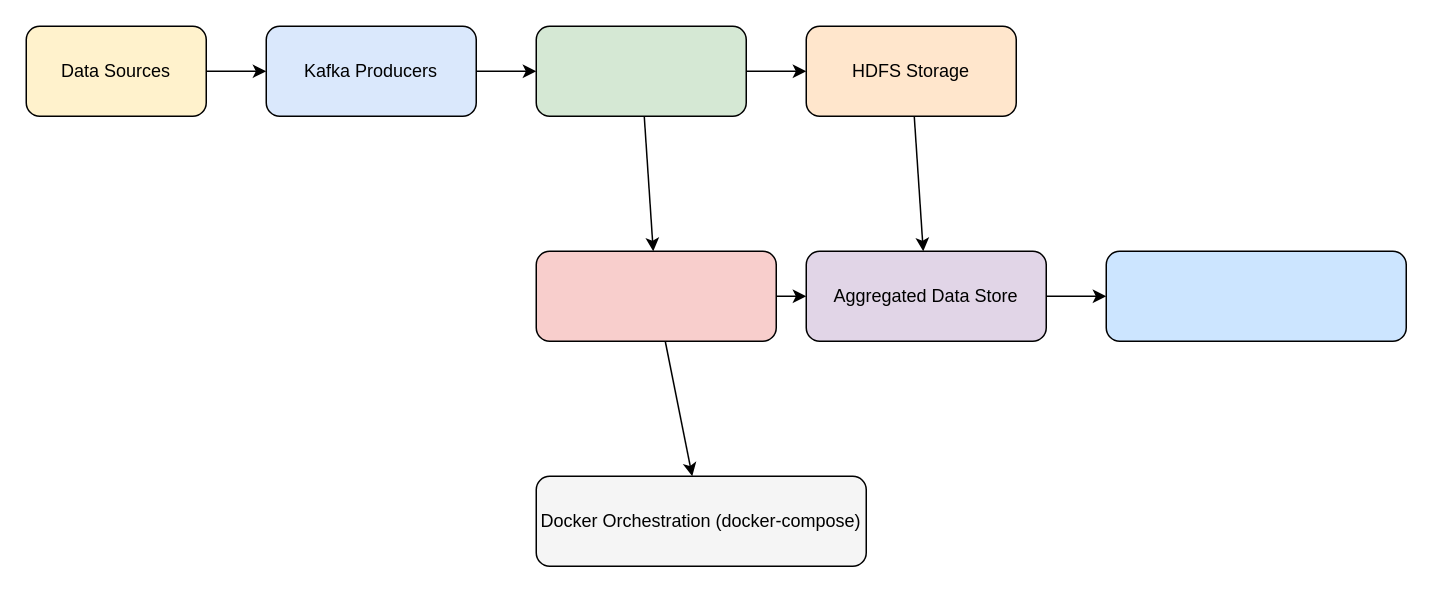
Some shapes in this 1433 by 593 pixel diagram are drawn without their labels. The shapes that lost their labels are listed below. From the top down, each one's centre as x and y in pixels, then its label:
point (640, 70): Kafka Broker
point (655, 295): Spark Batch Processing
point (1255, 295): ML Model Training / Delivery
